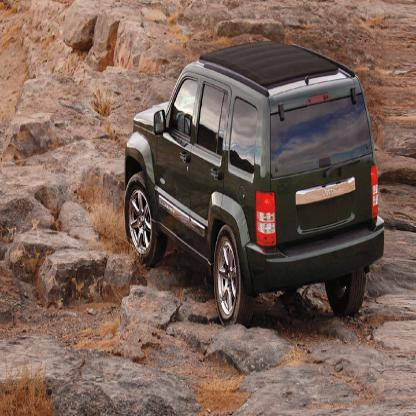Vehicle: (123, 38, 387, 330)
